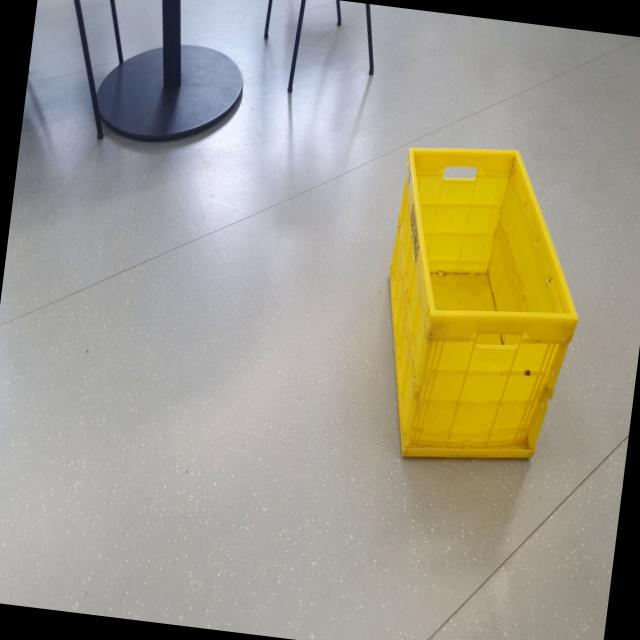box: (362, 117, 600, 486)
